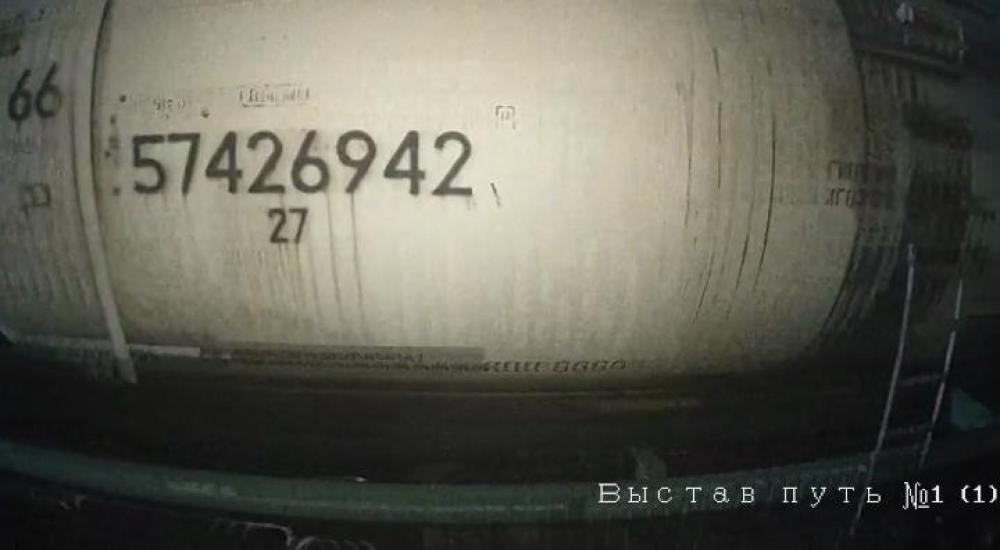Wagon-number: (125, 123, 477, 204)
